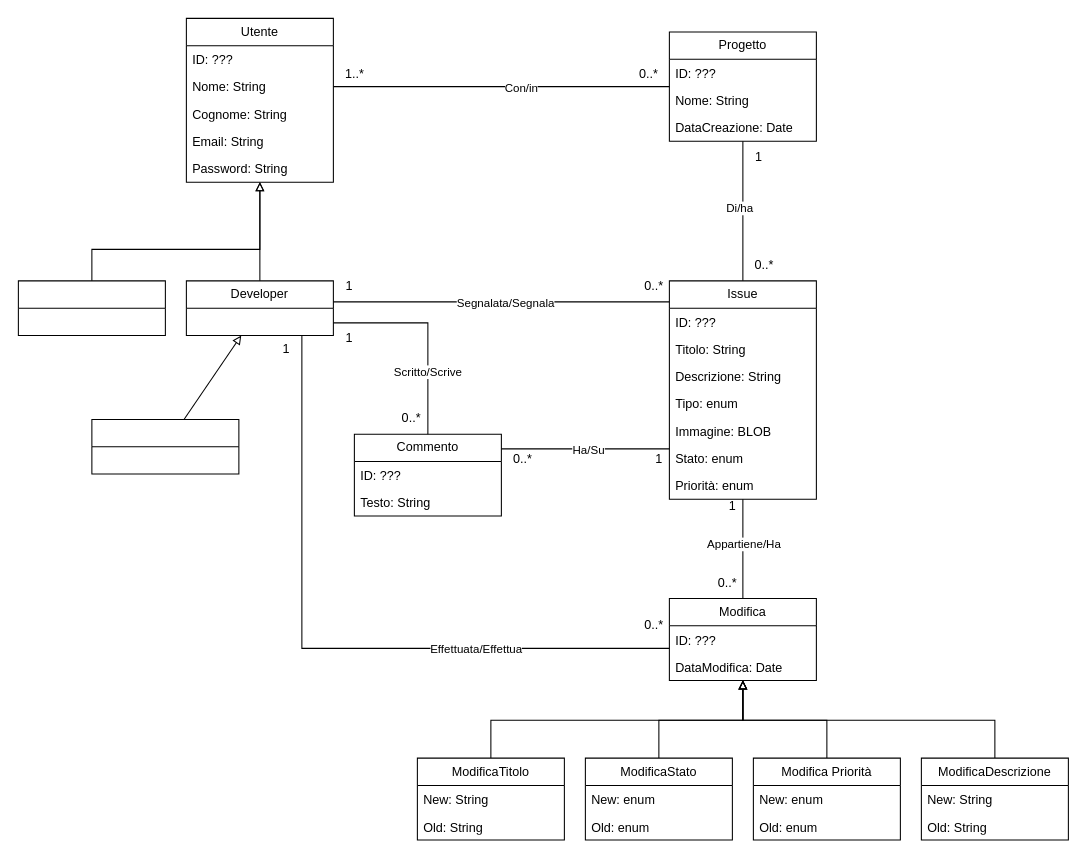
The diagram is 1087 pixels wide and 861 high, and some of its shapes have lost their labels. Here are the shapes that lost their labels. From the top down, the centre of each, then its label:
the point at 91,307: Viewer
the point at 165,446: Admin
